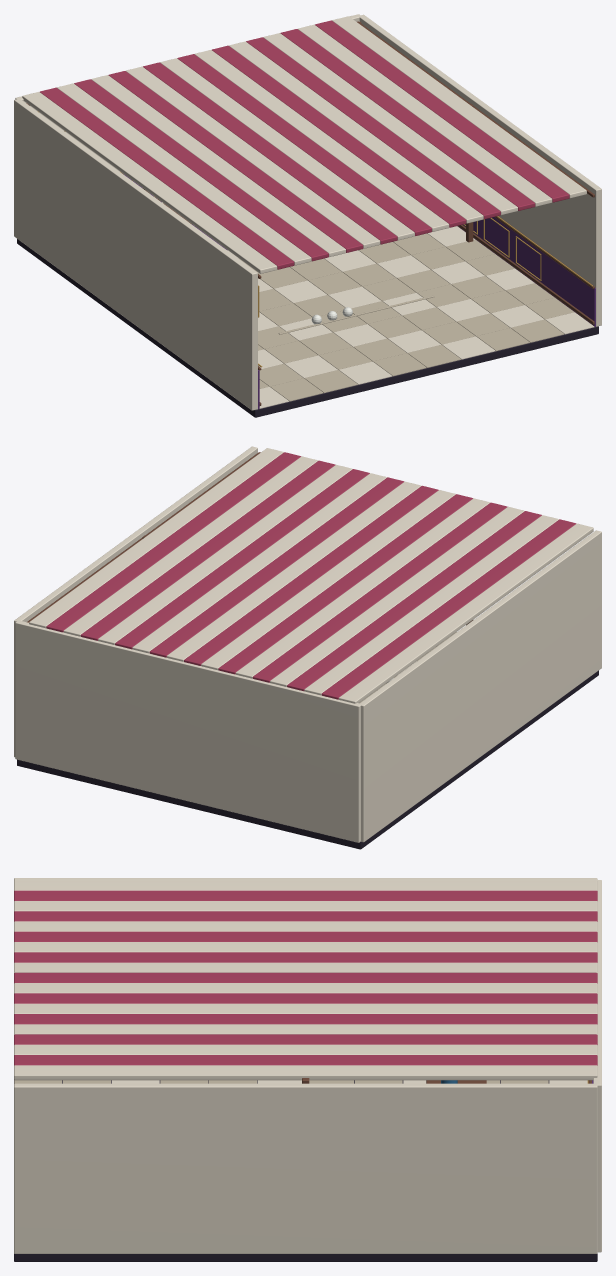
The model's file is can_toss_booth.glb.
3 renders of one model, top to bottom at view 1: azimuth 30°, elevation 25°; view 2: azimuth 150°, elevation 25°; view 3: azimuth 270°, elevation 25°, orthographic. The views are drawn at different scales.
Visible parts, largest first — view 1: structural_wall.016, structural_wall.017, striped_canopy, striped_canopy.002, striped_canopy.007, striped_canopy.001, striped_canopy.012, striped_canopy.016, striped_canopy.018, floor.004, striped_canopy.006, striped_canopy.008 (+64 smaller); view 2: structural_wall.015, structural_wall.016, striped_canopy, striped_canopy.017, striped_canopy.007, striped_canopy.002, striped_canopy.005, striped_canopy.012, striped_canopy.015, striped_canopy.001, striped_canopy.003, striped_canopy.006 (+12 smaller); view 3: structural_wall.017, striped_canopy.018, striped_canopy, striped_canopy.002, striped_canopy.003, striped_canopy.005, striped_canopy.006, striped_canopy.007, striped_canopy.009, striped_canopy.010, striped_canopy.013, striped_canopy.014 (+11 smaller).
Part boxes in pixels (x1=…): structural_wall.016: x1=14, y1=98, x2=257, y2=410; structural_wall.017: x1=359, y1=14, x2=601, y2=326; striped_canopy: x1=22, y1=92, x2=277, y2=273; striped_canopy.002: x1=56, y1=83, x2=311, y2=265; striped_canopy.007: x1=143, y1=62, x2=397, y2=244; striped_canopy.001: x1=40, y1=87, x2=294, y2=269; striped_canopy.012: x1=229, y1=41, x2=483, y2=223; striped_canopy.016: x1=298, y1=24, x2=552, y2=206; striped_canopy.018: x1=332, y1=16, x2=586, y2=198; floor.004: x1=17, y1=239, x2=598, y2=417; striped_canopy.006: x1=126, y1=66, x2=380, y2=248; striped_canopy.008: x1=160, y1=58, x2=414, y2=240; structural_wall.015: x1=15, y1=620, x2=360, y2=842; structural_wall.016: x1=360, y1=530, x2=601, y2=842; striped_canopy: x1=338, y1=523, x2=593, y2=703; striped_canopy.017: x1=46, y1=452, x2=300, y2=632; striped_canopy.007: x1=218, y1=494, x2=472, y2=674; striped_canopy.002: x1=304, y1=515, x2=558, y2=695; striped_canopy.005: x1=252, y1=502, x2=507, y2=682; striped_canopy.012: x1=132, y1=473, x2=386, y2=653; striped_canopy.015: x1=80, y1=460, x2=335, y2=640; striped_canopy.001: x1=321, y1=519, x2=576, y2=699; striped_canopy.003: x1=287, y1=511, x2=541, y2=691; striped_canopy.006: x1=235, y1=498, x2=490, y2=678; structural_wall.017: x1=14, y1=1083, x2=597, y2=1253; striped_canopy.018: x1=14, y1=1065, x2=597, y2=1080; striped_canopy: x1=14, y1=880, x2=597, y2=890; striped_canopy.002: x1=14, y1=901, x2=597, y2=911; striped_canopy.003: x1=14, y1=911, x2=597, y2=921; striped_canopy.005: x1=14, y1=931, x2=597, y2=942; striped_canopy.006: x1=14, y1=942, x2=597, y2=952; striped_canopy.007: x1=14, y1=952, x2=597, y2=962; striped_canopy.009: x1=14, y1=972, x2=597, y2=983; striped_canopy.010: x1=14, y1=983, x2=597, y2=993; striped_canopy.013: x1=14, y1=1014, x2=597, y2=1024; striped_canopy.014: x1=14, y1=1024, x2=597, y2=1034.
Size of the model in its own units: 10.18 by 4.08 by 12.09.
